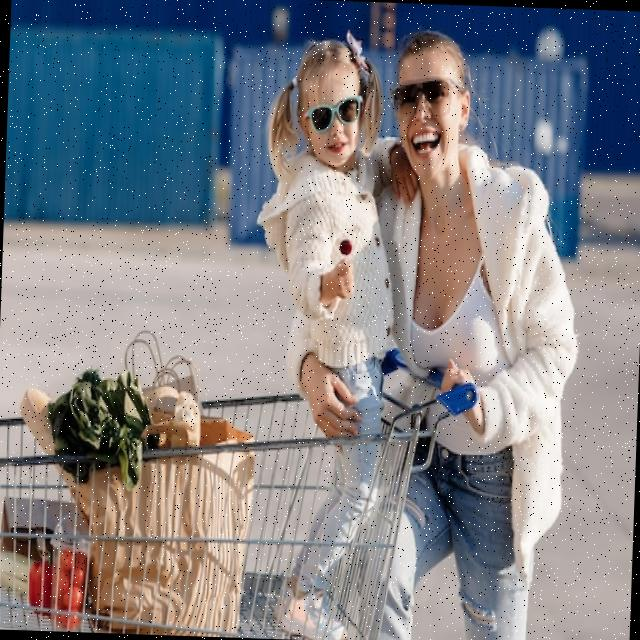Person: (276, 24, 589, 640), (244, 28, 423, 640)
